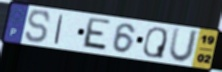6: (112, 22, 138, 54)
E: (80, 16, 113, 53)
I: (53, 13, 65, 46)
Q: (142, 26, 169, 60)
S: (24, 9, 53, 44)
U: (167, 26, 200, 65)
